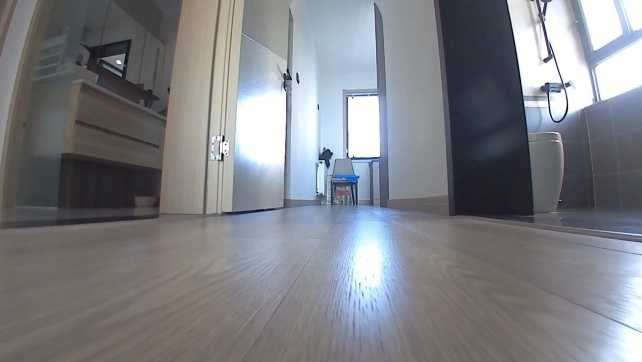door_anno: (211, 0, 290, 213)
toilet: (526, 130, 563, 206)
washstand: (21, 77, 166, 170)
